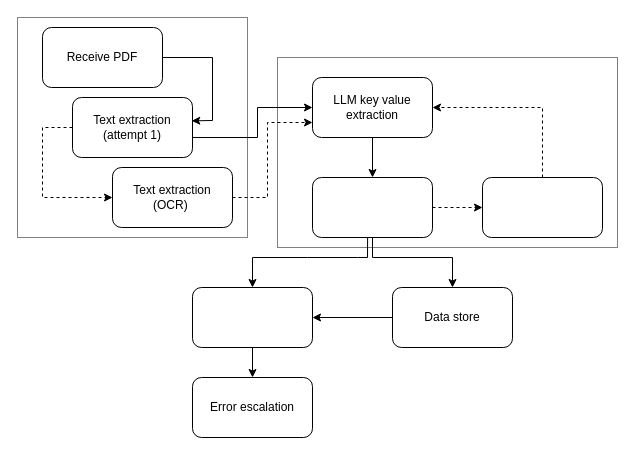
This 635x455 diagram has some shape labels left out. The box of each missing label's shape, as (x1, y1, x2, y2) in pixels:
Key value parsing: (312, 176, 432, 238)
Regex support: (482, 176, 602, 238)
Validation: (192, 286, 312, 348)
